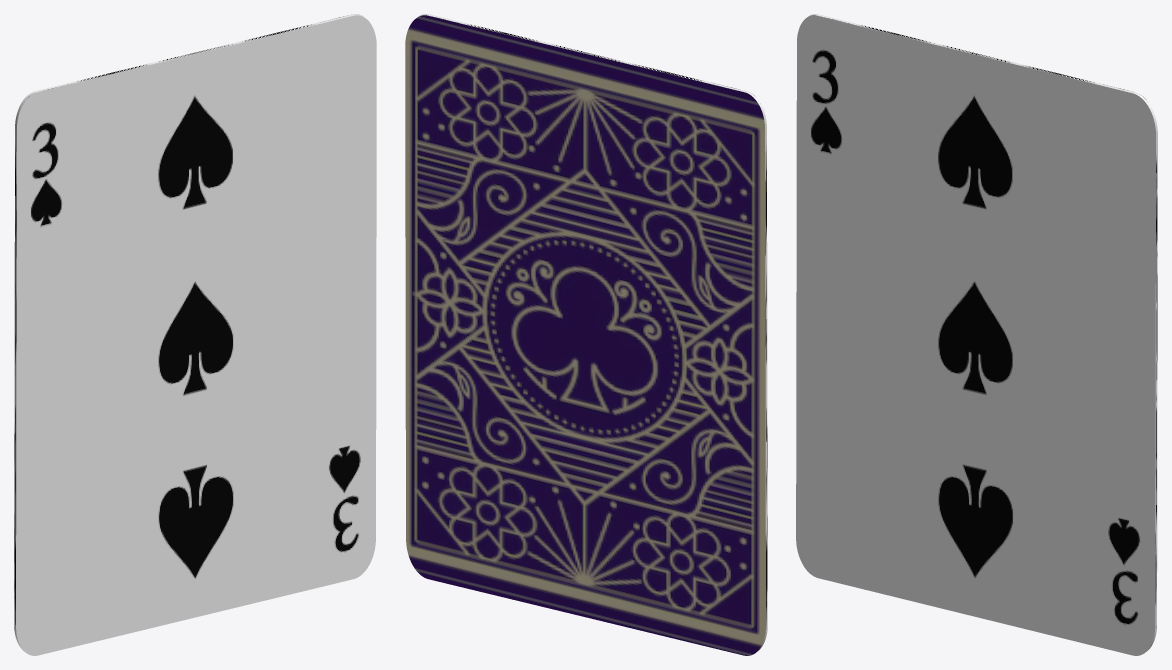
The model's file is 3picas.glb.
The picture shows the model from 3 angles, left to right: view 1: azimuth 30°, elevation 25°; view 2: azimuth 150°, elevation 25°; view 3: azimuth 330°, elevation 25°; orthographic projection.
Parts seen in each view (by area): view 1: Cubo.002; view 2: Cubo.002; view 3: Cubo.002.
Part boxes in pixels (x1,y1,x2,y2): Cubo.002: [14, 14, 376, 655]; Cubo.002: [405, 14, 767, 655]; Cubo.002: [796, 14, 1157, 655].
Bounding box in the file's own units: 7.36 × 11 × 0.065.
3 materials, 3 textured.
